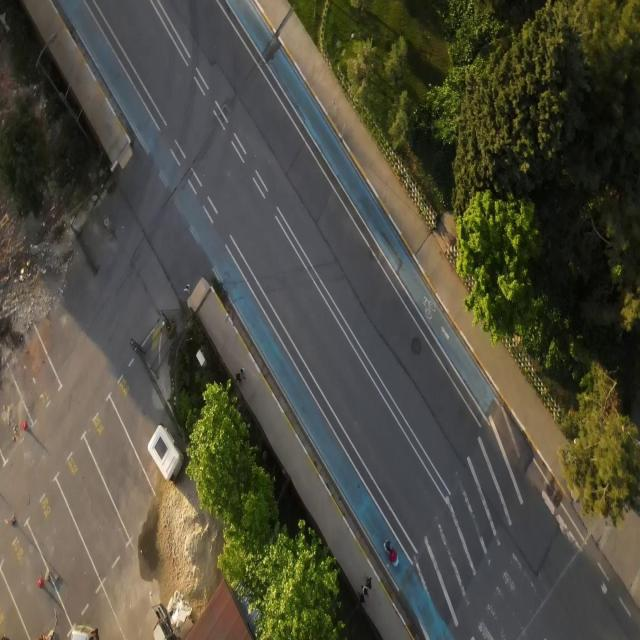p3rson: (357, 593, 368, 603), (184, 283, 192, 296), (235, 372, 242, 386), (240, 367, 247, 380), (366, 575, 373, 588), (362, 585, 369, 597)
